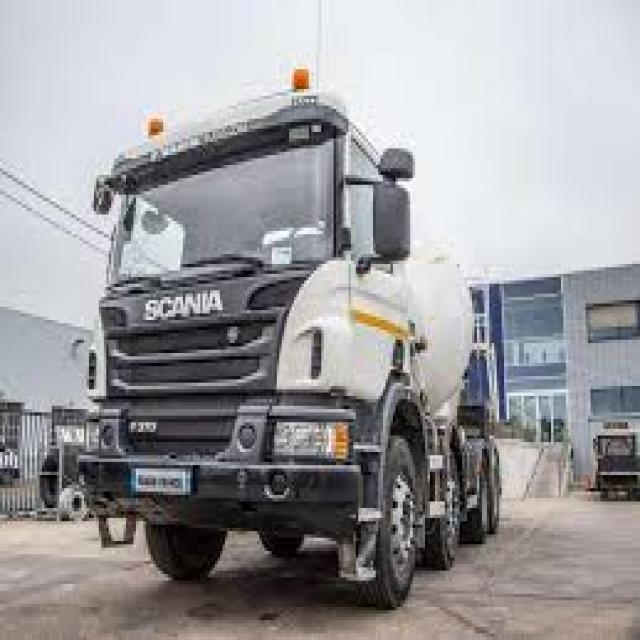Mixer Truck: (75, 66, 504, 613)
